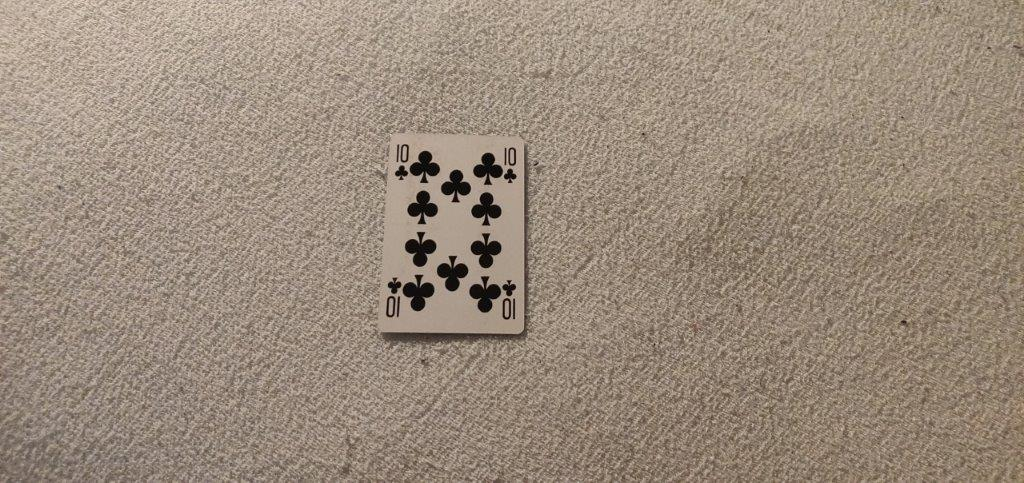10C: (502, 144, 520, 187), (394, 142, 410, 182)
